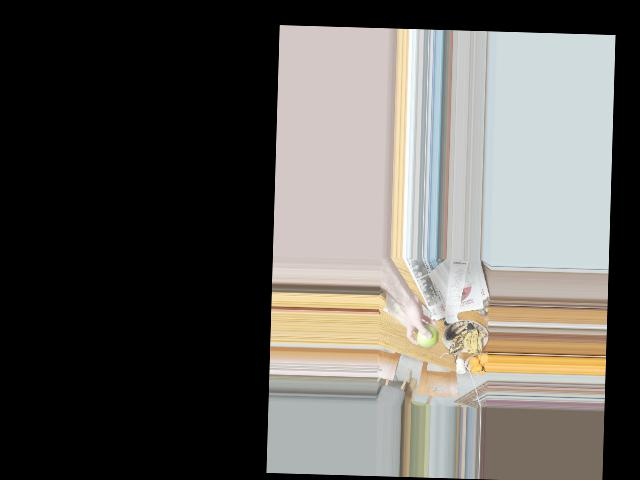apple: (416, 323, 439, 347)
